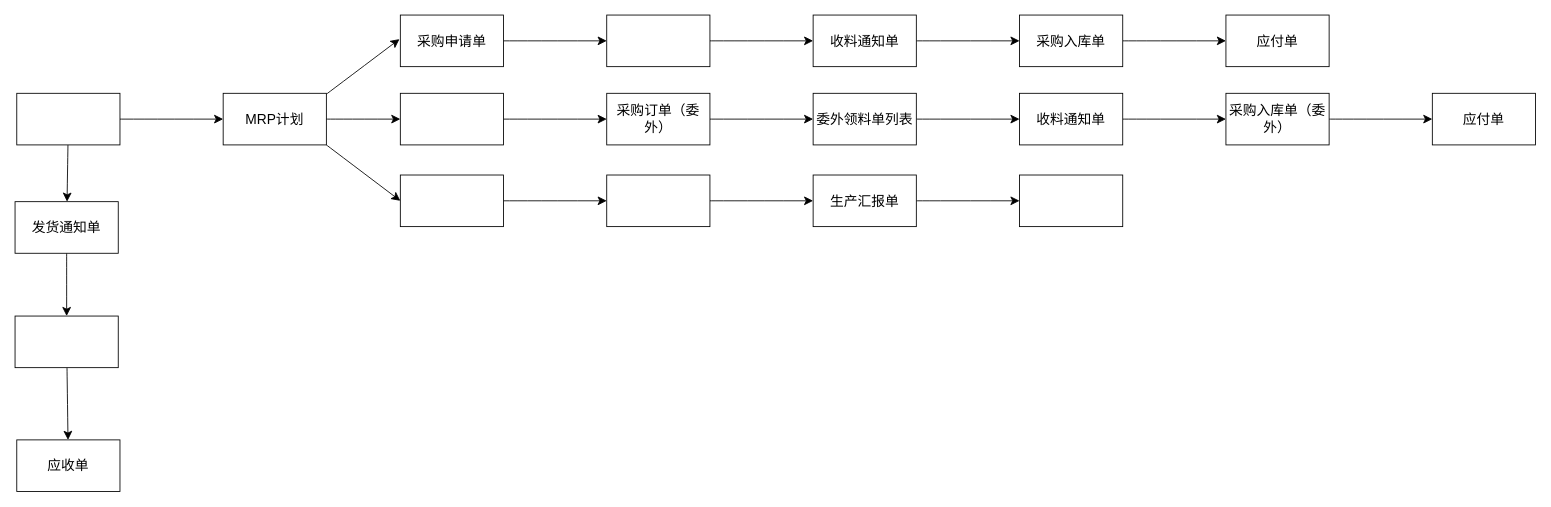
Image size: 1551x507. Some labels were removed from this diagram. The box of each missing label's shape, as (x1, y1, x2, y2) in pixels:
委外订单申请: (399, 92, 504, 145)
生产入库单: (1019, 174, 1123, 227)
生产订单: (399, 174, 504, 227)
生产领料单列表: (606, 174, 710, 227)
采购订单: (606, 14, 710, 67)
销售出库单: (14, 315, 118, 368)
销售订单: (16, 92, 120, 145)
